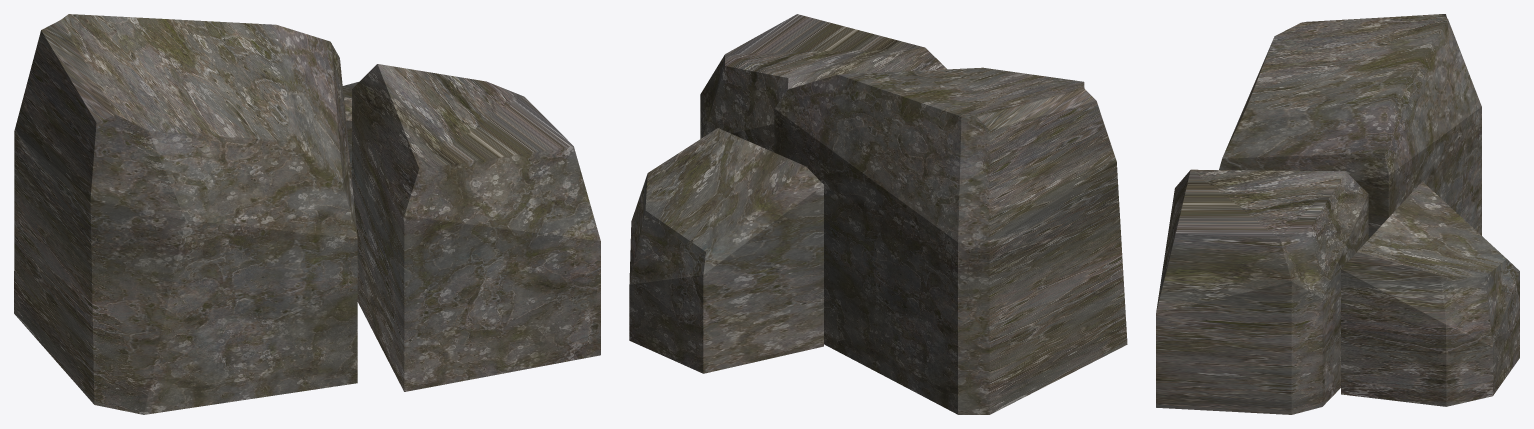
Rendered from rock03.obj.
The picture shows the model from 3 angles, left to right: view 1: azimuth 30°, elevation 25°; view 2: azimuth 150°, elevation 25°; view 3: azimuth 270°, elevation 25°; orthographic projection. The views are drawn at different scales.
Parts seen in each view (by area): view 1: Cube.018_Cube.088; view 2: Cube.018_Cube.088; view 3: Cube.018_Cube.088.
Boxes of the visible parts, box(x1,y1,x2,y2) form: Cube.018_Cube.088: box(14, 14, 600, 414); Cube.018_Cube.088: box(629, 14, 1127, 414); Cube.018_Cube.088: box(1156, 14, 1519, 414).
Size of the model in its own units: 7.59 by 4.83 by 6.47.
